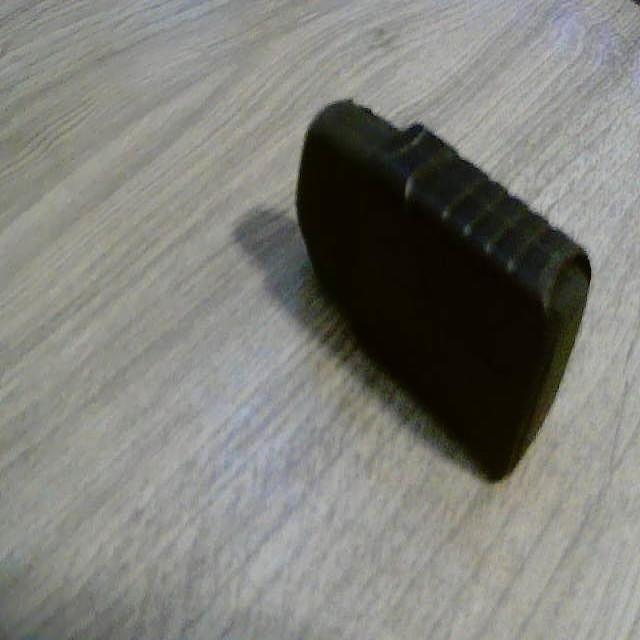borracha: (278, 66, 607, 498)
